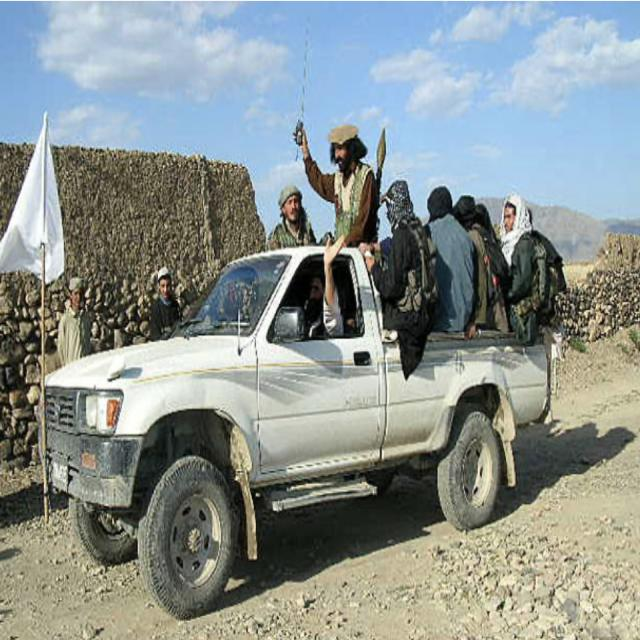bazooka: (372, 125, 393, 188)
